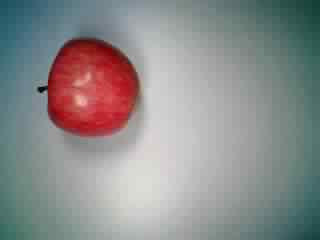apple: (35, 33, 139, 137)
